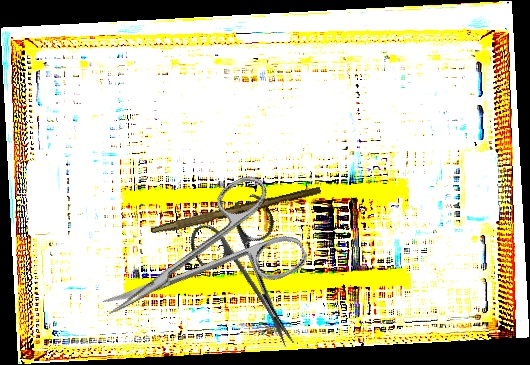Iris Scissors: (80, 166, 312, 354), (182, 190, 330, 365)
Scalpel Handle: (150, 182, 322, 240)
